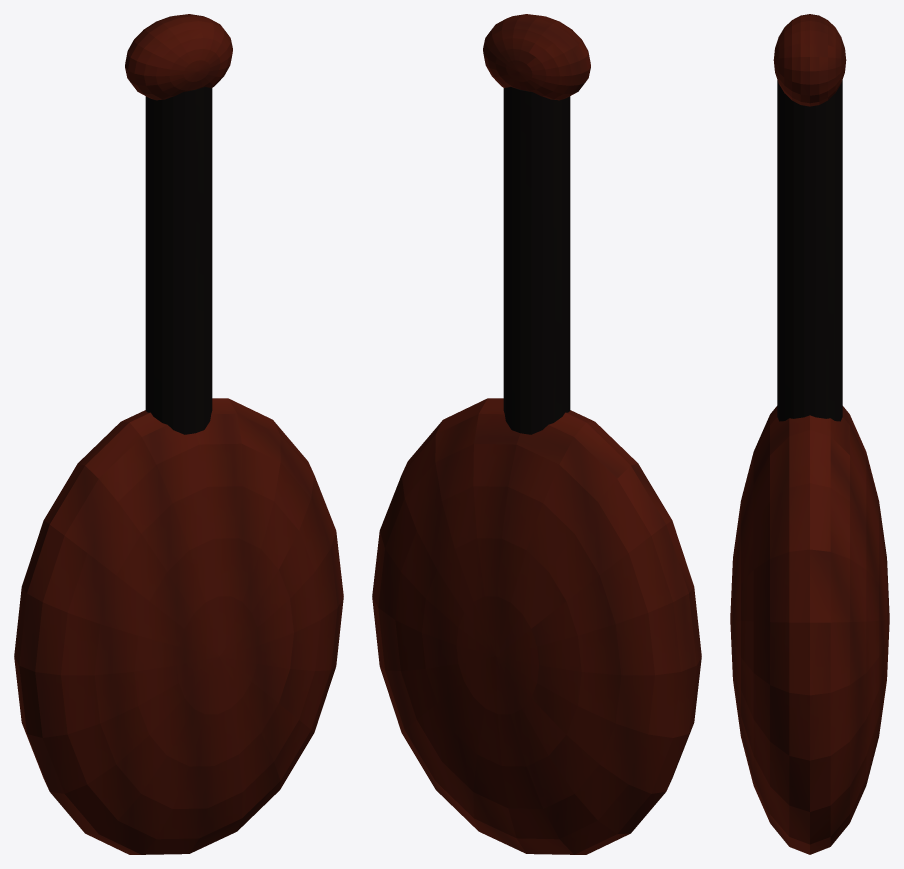
File: instrumento.obj
3 renders of one model, left to right at view 1: azimuth 30°, elevation 25°; view 2: azimuth 150°, elevation 25°; view 3: azimuth 270°, elevation 25°, orthographic.
Parts seen in each view (by area): view 1: instrumento; view 2: instrumento; view 3: instrumento.
Part boxes in pixels (x1,y1,x2,y2): instrumento: [14, 14, 343, 854]; instrumento: [372, 14, 701, 854]; instrumento: [730, 14, 889, 854].
Size of the model in its own units: 0.5 by 1.25 by 0.22.
2 materials, 2 textured.
